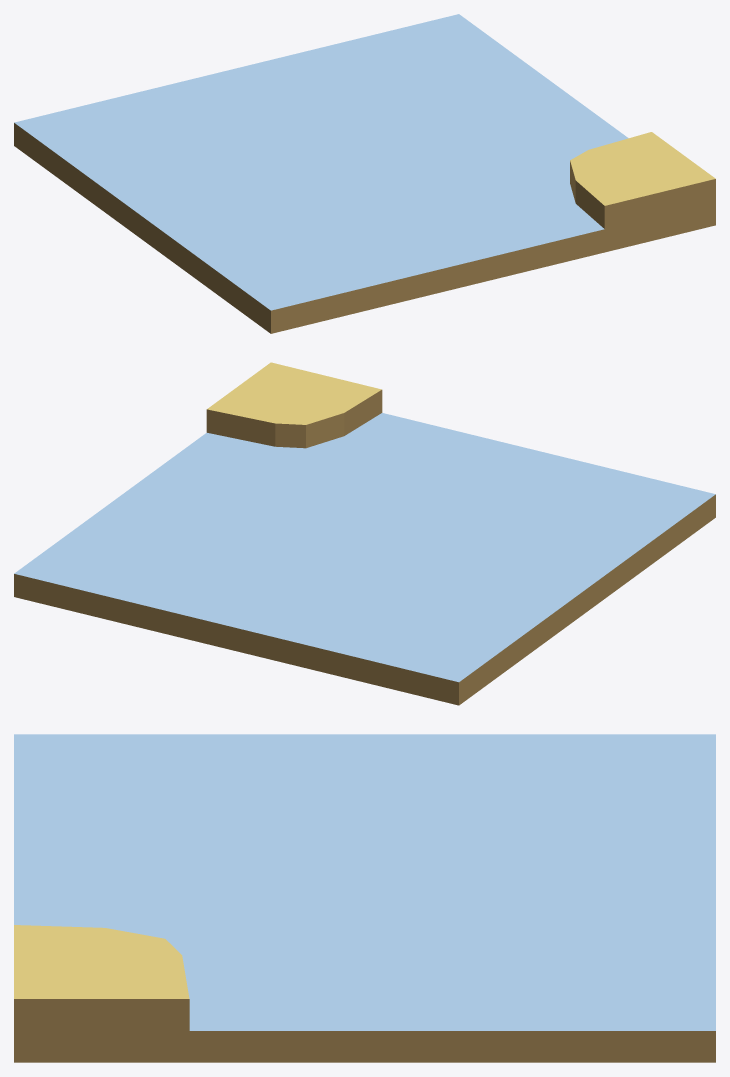
The model's file is Terrain_Modular_Tiles_Sand_Dirt_Water_Edge_Corner_Inner_03.fbx.
The picture shows the model from 3 angles, top to bottom: view 1: azimuth 30°, elevation 25°; view 2: azimuth 150°, elevation 25°; view 3: azimuth 270°, elevation 25°; orthographic projection. The views are drawn at different scales.
Visible parts, largest first — view 1: Terrain_Modular_Tiles_Sand_Dirt_Water_Edge_Corner_Inner_03; view 2: Terrain_Modular_Tiles_Sand_Dirt_Water_Edge_Corner_Inner_03; view 3: Terrain_Modular_Tiles_Sand_Dirt_Water_Edge_Corner_Inner_03.
Boxes of the visible parts, bbox=[...] form: Terrain_Modular_Tiles_Sand_Dirt_Water_Edge_Corner_Inner_03: bbox=[14, 14, 715, 333]; Terrain_Modular_Tiles_Sand_Dirt_Water_Edge_Corner_Inner_03: bbox=[14, 362, 715, 705]; Terrain_Modular_Tiles_Sand_Dirt_Water_Edge_Corner_Inner_03: bbox=[14, 734, 715, 1062].
Bounding box in the file's own units: 118 × 11.81 × 118.
